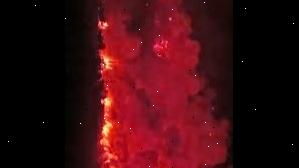fire: (84, 0, 132, 168), (147, 0, 184, 54)
